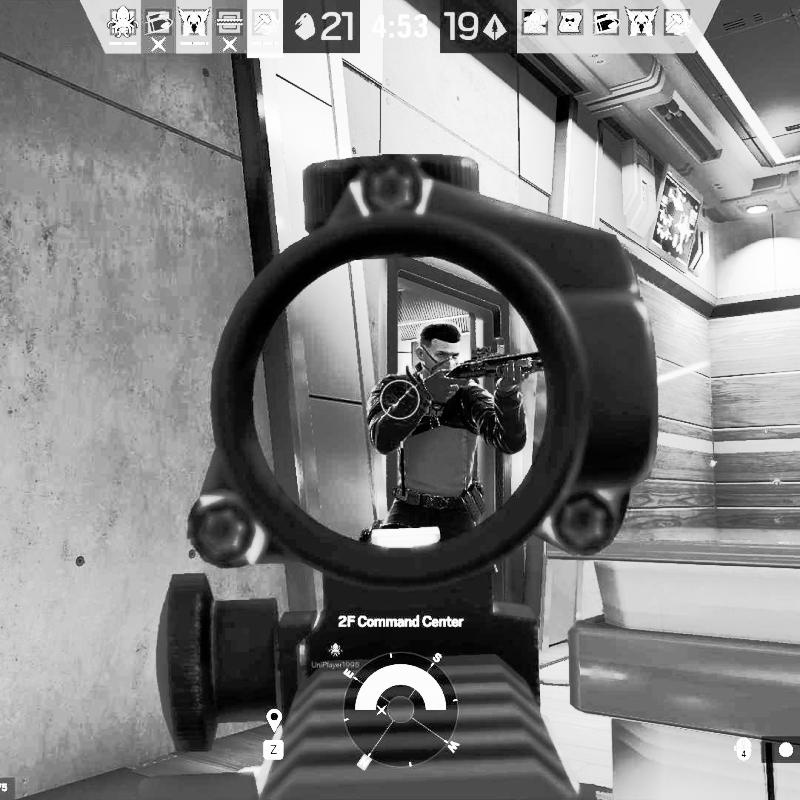Character: (357, 318, 543, 546)
Head: (414, 321, 467, 373)
